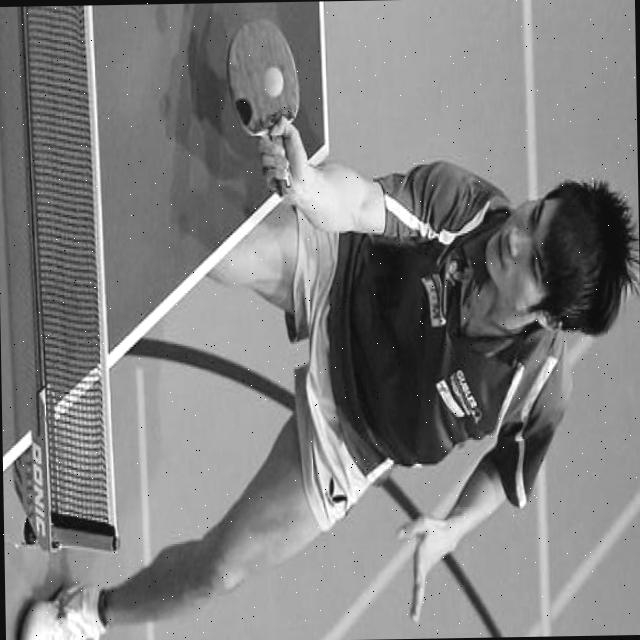ping-pong-ball: (263, 64, 285, 98)
